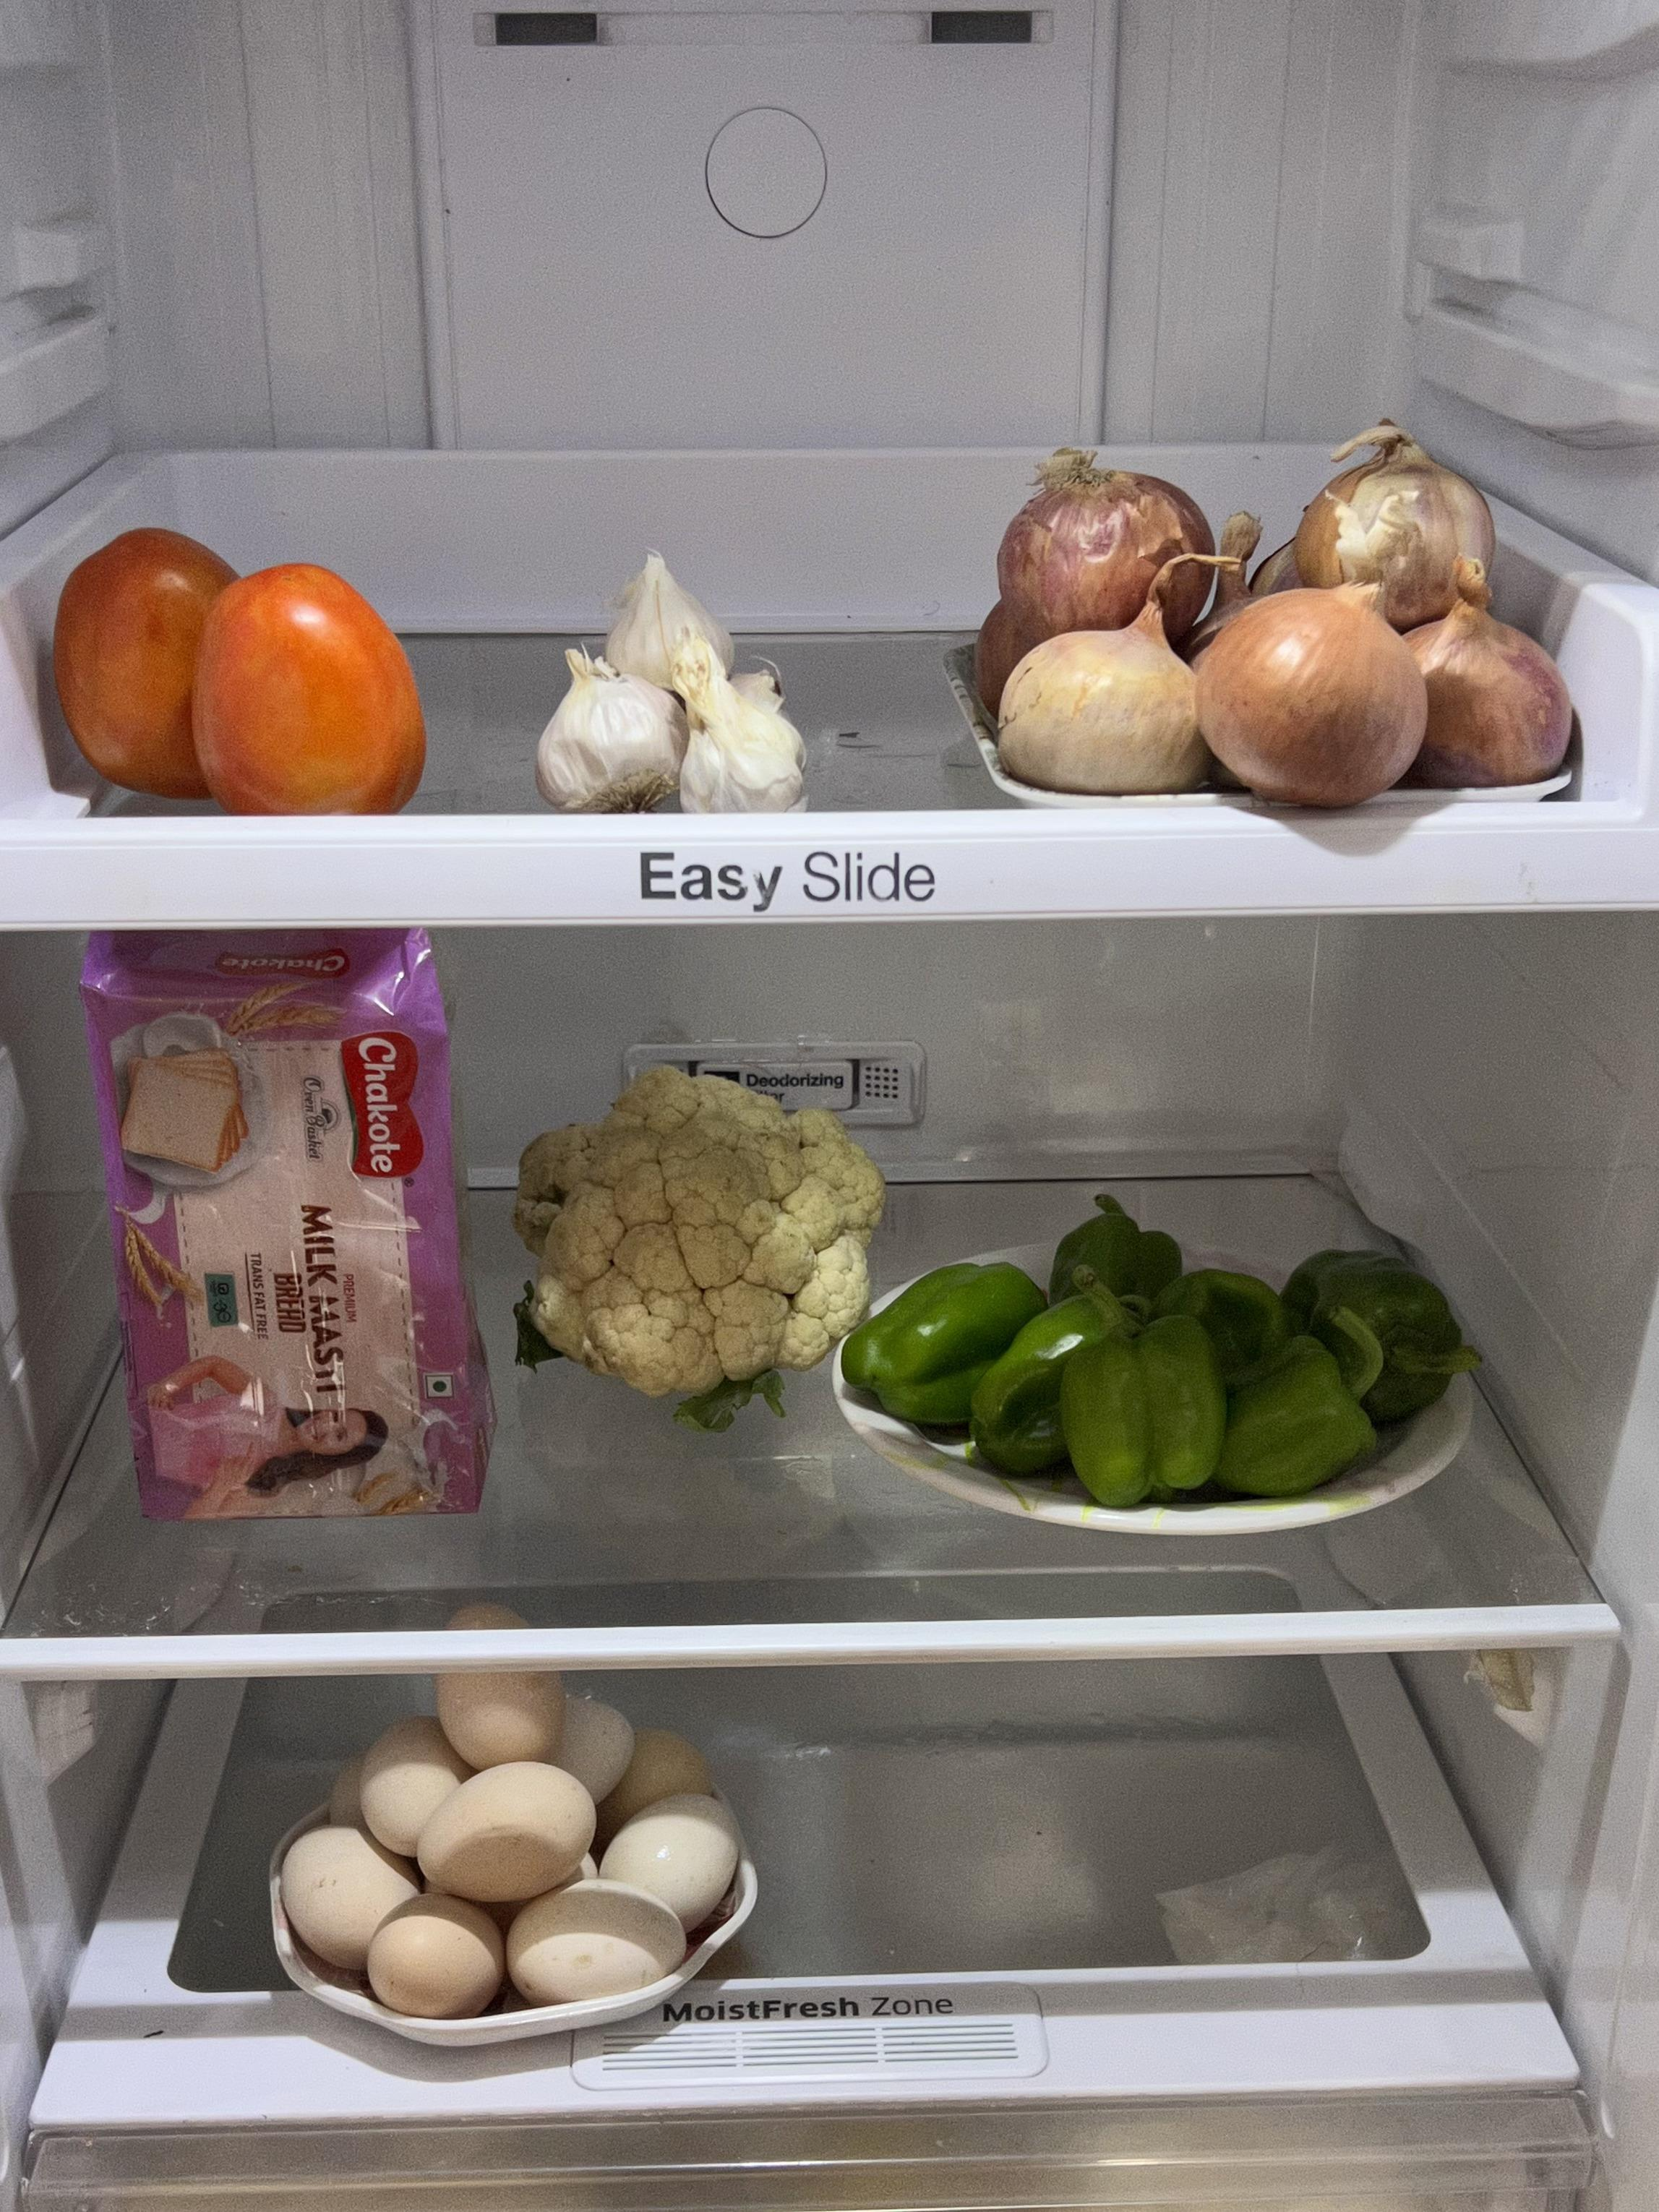bread: (73, 913, 502, 1529)
capsicum: (842, 1211, 1486, 1514)
cauliflower: (509, 1066, 882, 1393)
egg: (270, 1672, 763, 2022)
garlic: (528, 543, 814, 815)
tomato: (47, 516, 432, 820)
